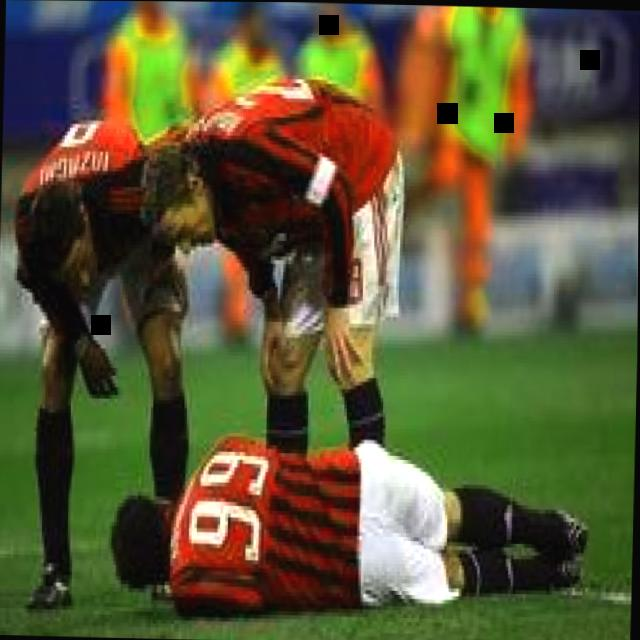Fall-Detected: (105, 402, 600, 614)
